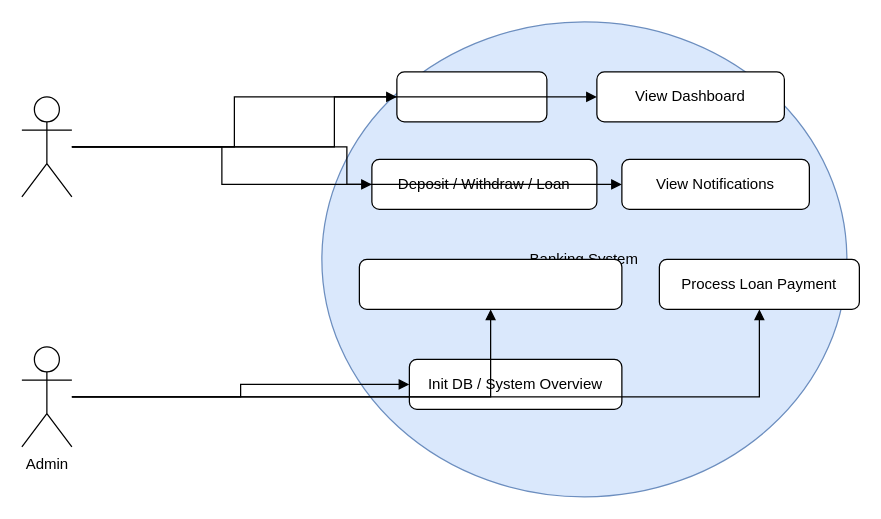
This 881x519 diagram has some shape labels left out. The centre of each missing label's shape, as x and y in pixels:
Login: point (471, 96)
Send Reminder / Suspend / Reactivate: point (490, 283)
User: point (46, 146)
